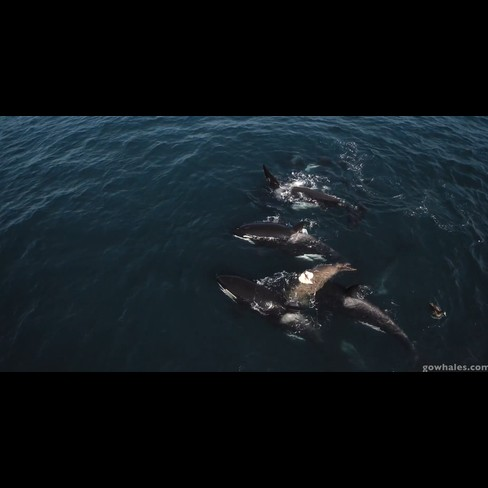orca: (208, 262, 351, 348), (259, 161, 369, 223), (228, 212, 357, 262)
